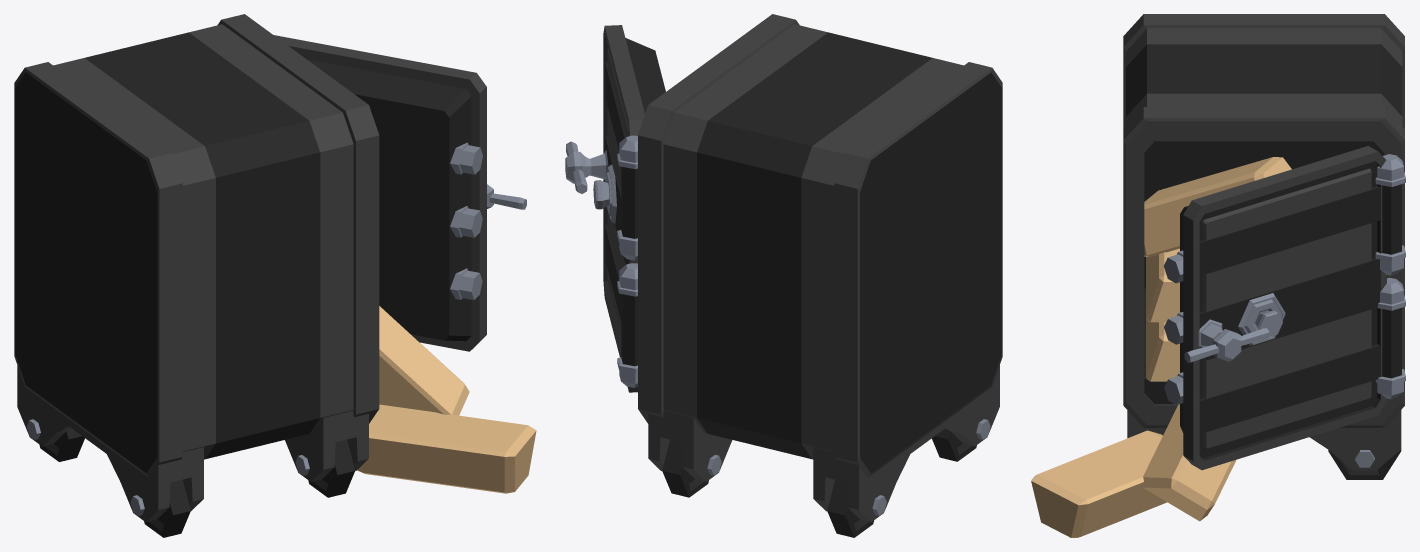
The model's file is Safe.fbx.
3 views of the same model, side by side, from view 1: azimuth 30°, elevation 25°; view 2: azimuth 150°, elevation 25°; view 3: azimuth 270°, elevation 25° (orthographic). The views are drawn at different scales.
Parts seen in each view (by area): view 1: Cube; view 2: Cube; view 3: Cube.
Part boxes in pixels (bbox=[...]): Cube: bbox=[14, 14, 536, 537]; Cube: bbox=[565, 14, 1002, 537]; Cube: bbox=[1031, 14, 1405, 537].
Size of the model in its own units: 329 by 298 by 272.
